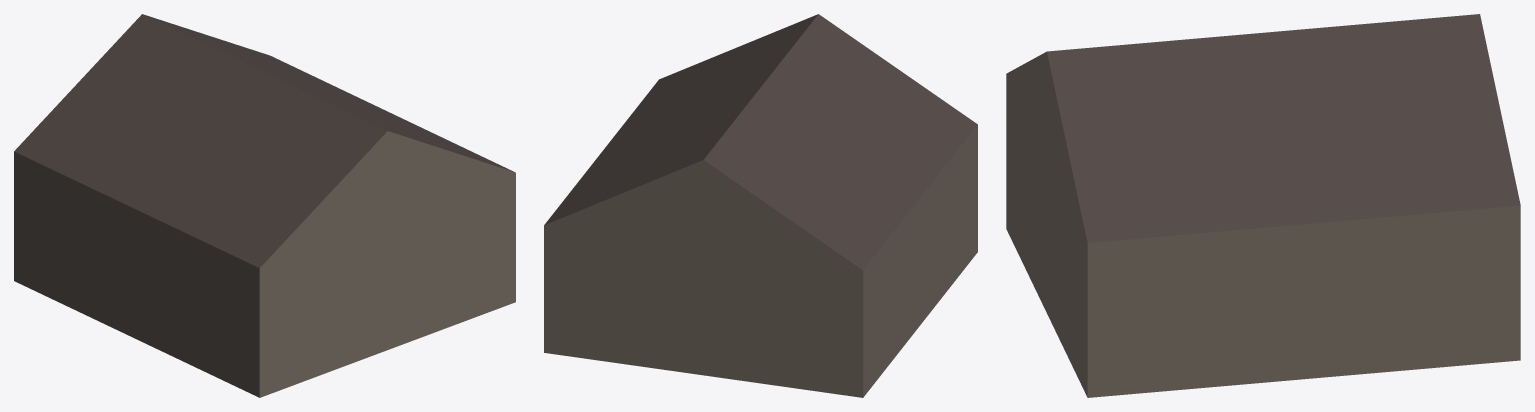
The picture shows the model from 3 angles, left to right: view 1: azimuth 30°, elevation 25°; view 2: azimuth 150°, elevation 25°; view 3: azimuth 270°, elevation 25°; orthographic projection. The views are drawn at different scales.
Parts seen in each view (by area): view 1: HP-w496382178; view 2: HP-w496382178; view 3: HP-w496382178.
Part boxes in pixels (x1=…): HP-w496382178: x1=14, y1=14, x2=515, y2=397; HP-w496382178: x1=544, y1=14, x2=977, y2=397; HP-w496382178: x1=1006, y1=14, x2=1520, y2=397.
Bounding box in the file's own units: 17.19 × 10.15 × 18.07.
